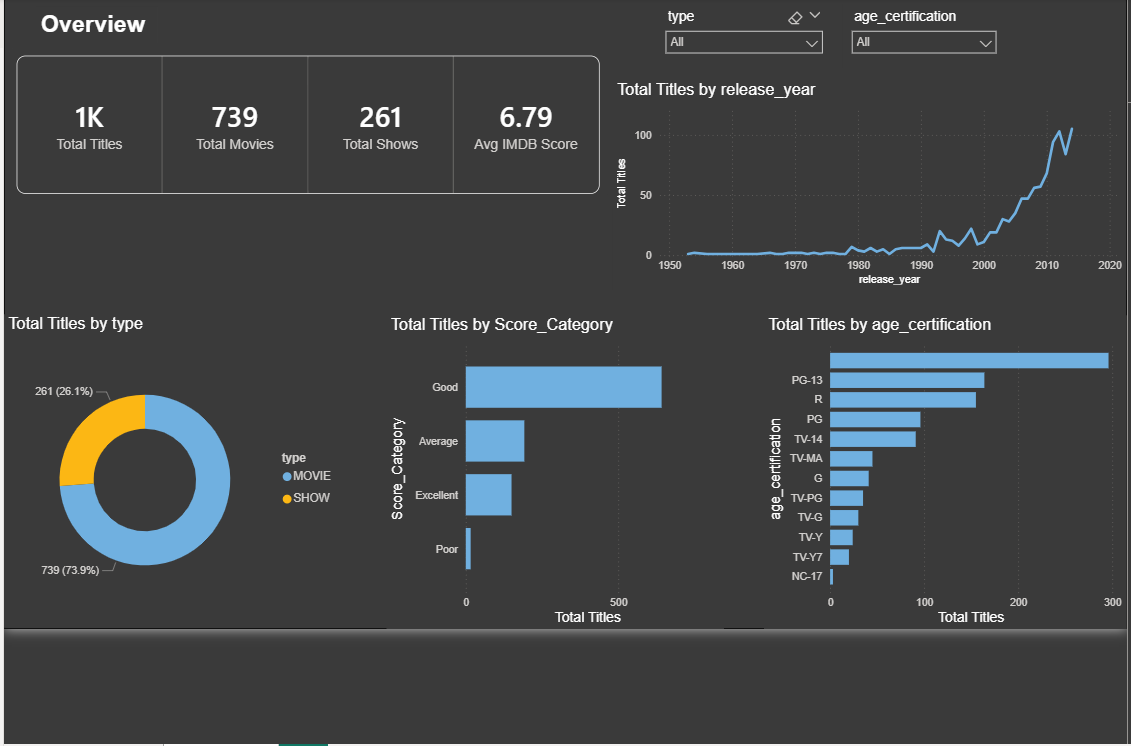

What the dashboard file says about the page in this screenshot:
{"tool":"powerbi","page":{"name":"Overview","canvas":[1280,720],"ordinal":0},"visuals":[{"type":"cardVisual","fields":{"Data":["netflix_clean.Total Titles","netflix_clean.Total Movies","netflix_clean.Total Shows","netflix_clean.Avg IMDB Score"]},"box":[0,51.3,694.2,186.7],"z":0},{"type":"textbox","box":[37.1,10,138.3,41.3],"z":1000},{"type":"donutChart","fields":{"Category":["netflix_clean.type"],"Y":["netflix_clean.Total Titles"]},"box":[0,360.6,387.7,357.8],"z":2000},{"type":"clusteredBarChart","fields":{"Category":["netflix_clean.Score_Category"],"Y":["netflix_clean.Total Titles"]},"box":[436.2,362,384.9,357.8],"z":3000},{"type":"clusteredBarChart","fields":{"Category":["netflix_clean.age_certification"],"Y":["netflix_clean.Total Titles"]},"box":[866.6,362,413.4,357.8],"z":4000},{"type":"lineChart","fields":{"Y":["netflix_clean.Total Titles"],"Category":["netflix_clean.release_year"]},"box":[694.2,94.1,585.8,238],"z":5000},{"type":"slicer","fields":{"Values":["netflix_clean.type"]},"box":[744.1,7.1,199.6,72.7],"z":6000},{"type":"slicer","fields":{"Values":["netflix_clean.age_certification"]},"box":[956.4,7.1,185.3,72.7],"z":7000}]}

Visuals, with their boxes on the page's 1280x720 design canvas (x1, y1, x2, y2). These are canvas units, not pixel positions in the 1131x746 screenshot, which may show the page scaled, cropped or inside an application window:
cardVisual - netflix_clean.Total Titles x netflix_clean.Total Movies: box(0, 51, 694, 238)
textbox: box(37, 10, 175, 51)
donutChart - netflix_clean.type x netflix_clean.Total Titles: box(0, 361, 388, 718)
clusteredBarChart - netflix_clean.Score_Category x netflix_clean.Total Titles: box(436, 362, 821, 720)
clusteredBarChart - netflix_clean.age_certification x netflix_clean.Total Titles: box(867, 362, 1280, 720)
lineChart - netflix_clean.Total Titles x netflix_clean.release_year: box(694, 94, 1280, 332)
slicer - netflix_clean.type: box(744, 7, 944, 80)
slicer - netflix_clean.age_certification: box(956, 7, 1142, 80)
